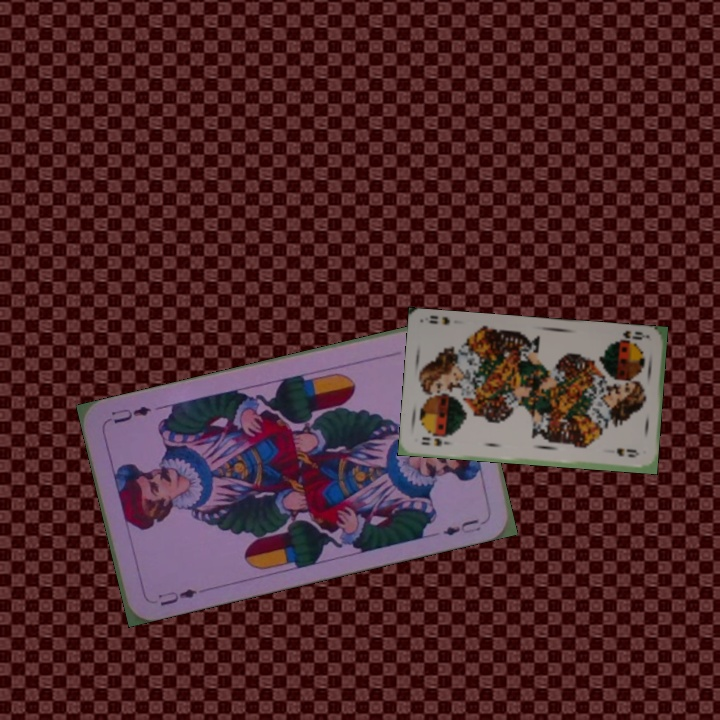EU: (154, 584, 200, 609)
SO: (610, 326, 651, 347), (418, 433, 453, 449)
